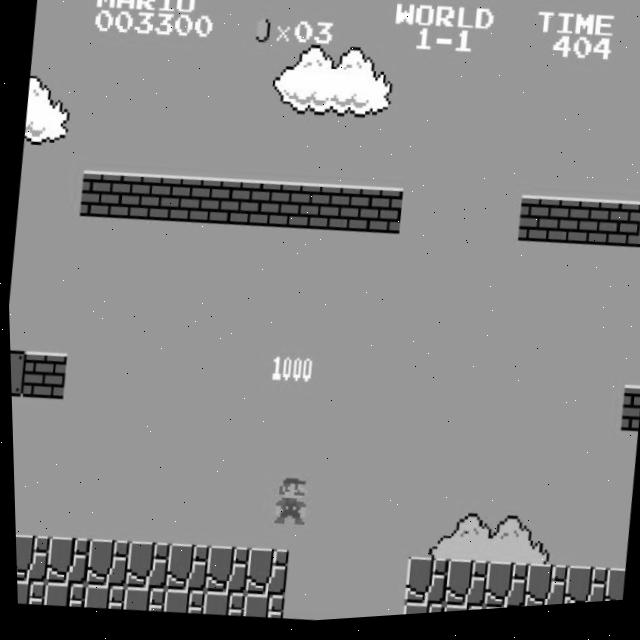1- brick_block: (554, 202, 602, 255), (355, 189, 403, 241), (19, 349, 66, 402), (77, 169, 124, 221), (116, 172, 163, 224), (156, 175, 203, 227), (196, 178, 243, 230), (236, 180, 283, 232), (276, 183, 323, 235), (315, 186, 362, 238), (514, 200, 561, 252), (594, 205, 640, 258), (616, 391, 640, 440)
13- mystery_block: (634, 208, 640, 257)
17- undestructible_block: (199, 545, 247, 599), (41, 534, 88, 588), (160, 542, 207, 596), (240, 548, 287, 602), (399, 559, 446, 613), (439, 562, 486, 616), (80, 537, 127, 590), (120, 540, 167, 593), (478, 564, 525, 616), (518, 567, 565, 614), (558, 570, 605, 611), (12, 531, 48, 584), (118, 585, 162, 616), (79, 582, 122, 613), (158, 588, 202, 618), (198, 591, 242, 621), (39, 580, 82, 610), (238, 594, 281, 624), (13, 577, 42, 606), (598, 574, 622, 609), (397, 605, 440, 620), (437, 608, 480, 618)
3- empty_block: (8, 348, 24, 397)
